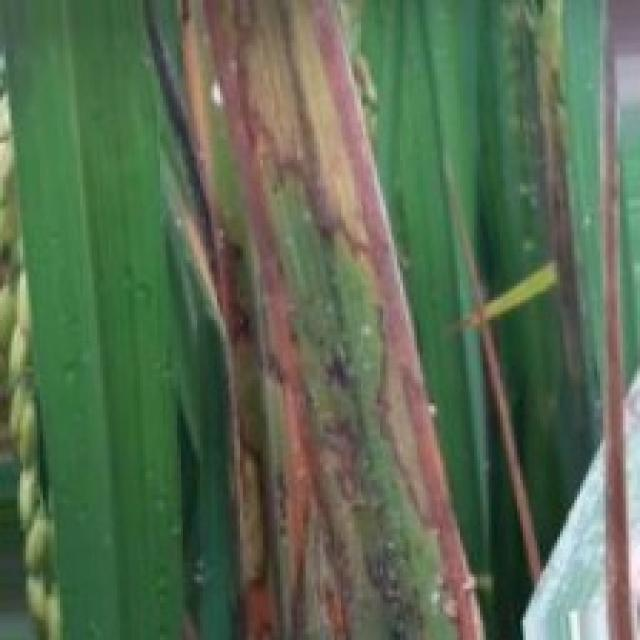Bacterial_Blight: (160, 0, 485, 640), (600, 35, 640, 640)
